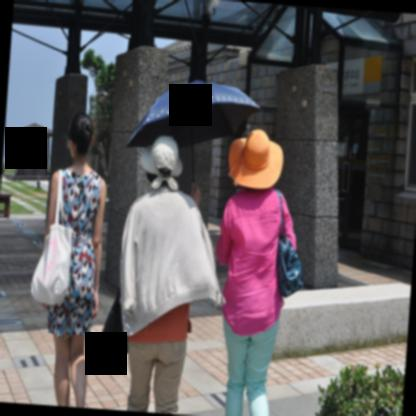handbag: (30, 170, 72, 305), (275, 188, 304, 299), (98, 284, 128, 362)
